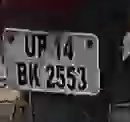1: (50, 33, 63, 61)
2: (40, 61, 57, 90)
3: (75, 65, 88, 92)
4: (61, 36, 76, 62)
5: (64, 64, 77, 92), (54, 62, 66, 90)
B: (16, 58, 29, 89)
K: (27, 60, 44, 89)
P: (36, 35, 47, 60)
U: (22, 32, 37, 59)
